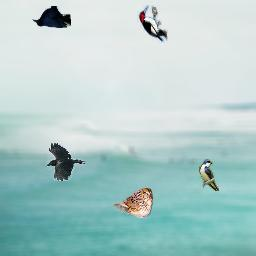Crow: (46, 143, 86, 181), (32, 6, 71, 28)
Sparrow: (113, 187, 153, 218)
Swallow: (199, 159, 219, 191)
Woodpecker: (136, 5, 168, 43)
